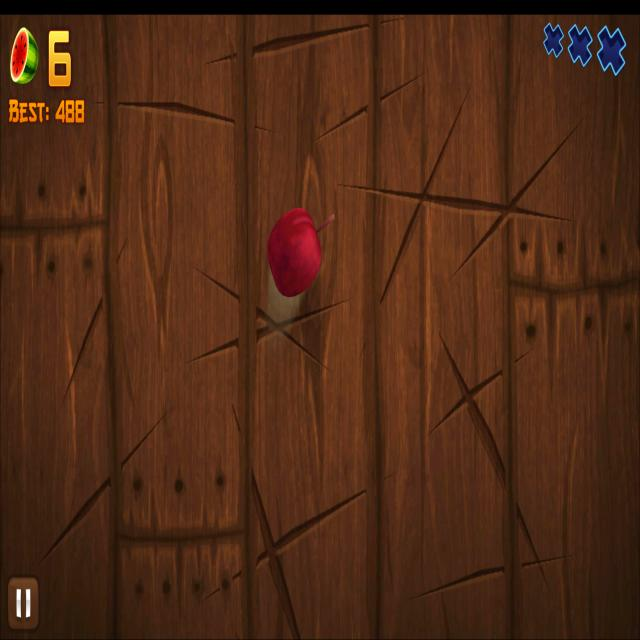fruit: (266, 206, 322, 298)
